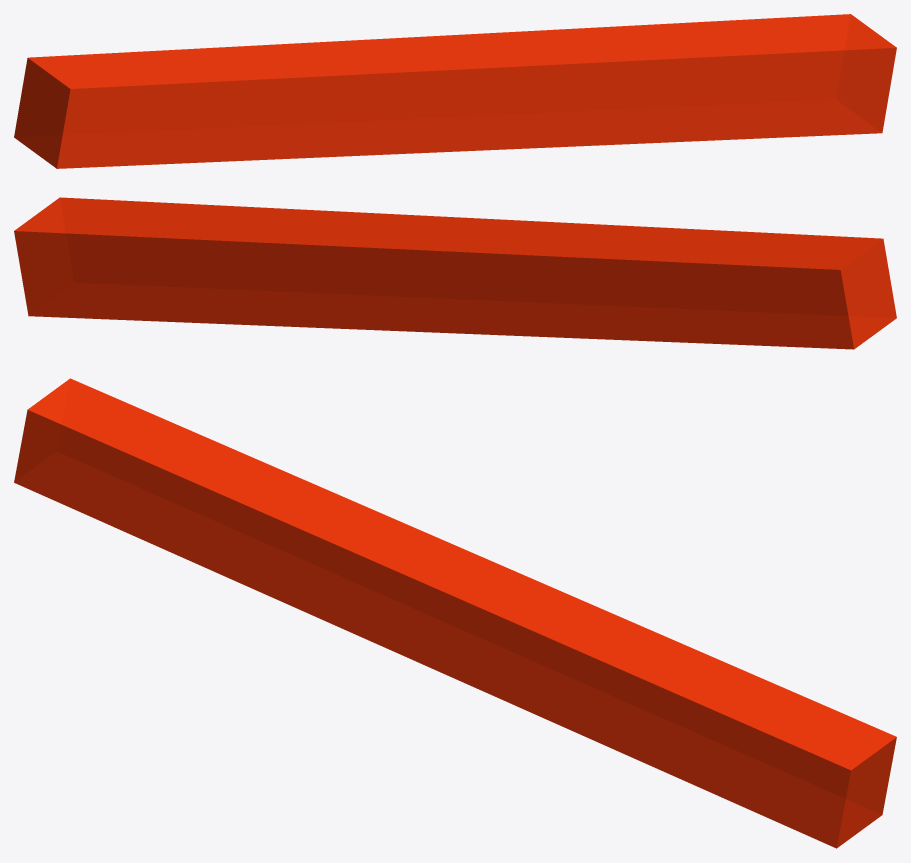
The model's file is Event_421364160_EErechit_58.fbx.
The picture shows the model from 3 angles, top to bottom: view 1: azimuth 30°, elevation 25°; view 2: azimuth 150°, elevation 25°; view 3: azimuth 330°, elevation 25°; orthographic projection.
Parts seen in each view (by area): view 1: Model; view 2: Model; view 3: Model.
Part boxes in pixels (<box>): Model: <box>14,14,896,168</box>; Model: <box>14,197,896,349</box>; Model: <box>14,378,896,848</box>.
Bounding box in the file's own units: 0.8195 × 0.2259 × 0.0777.
